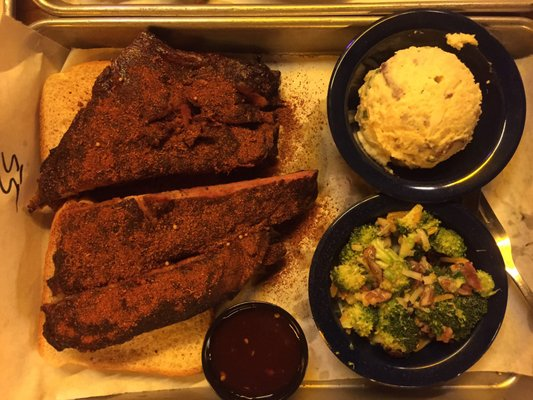sushi: (307, 194, 515, 387), (326, 12, 529, 205), (201, 301, 309, 400)
